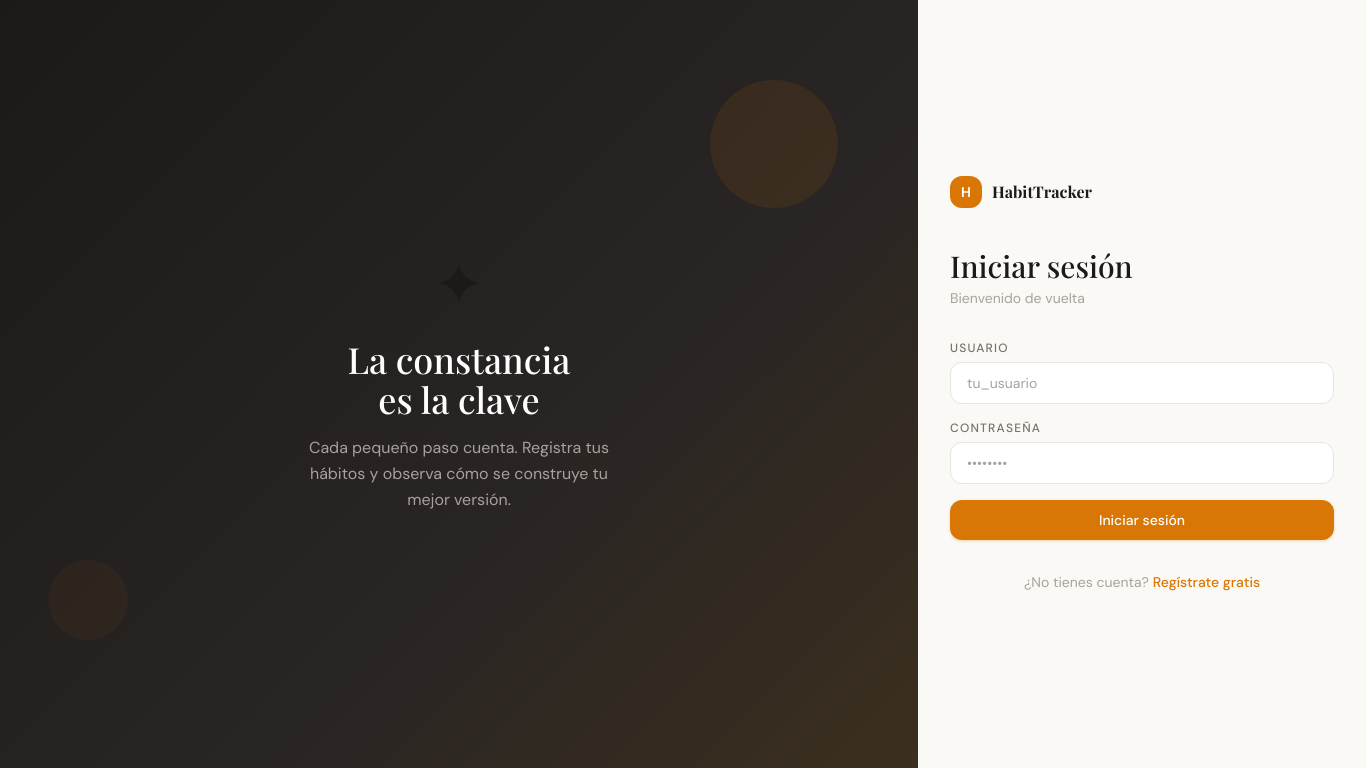
LoginPage — validaciones › muestra error si el usuario está vacío
Click the button "Iniciar sesión". click: (1142, 520)
box: [950, 500, 1334, 540]
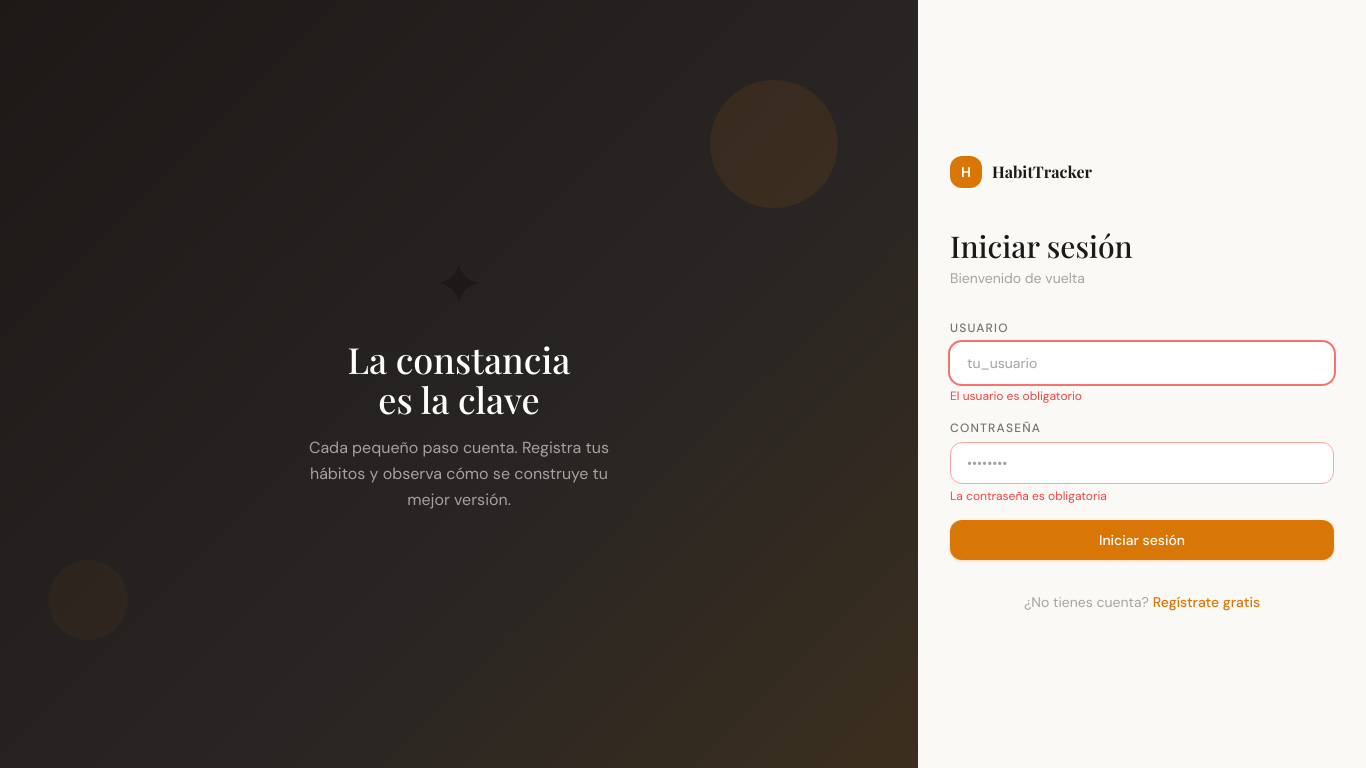
Expected: the text "El usuario es obligatorio" is shown, [950, 388, 1082, 404]
